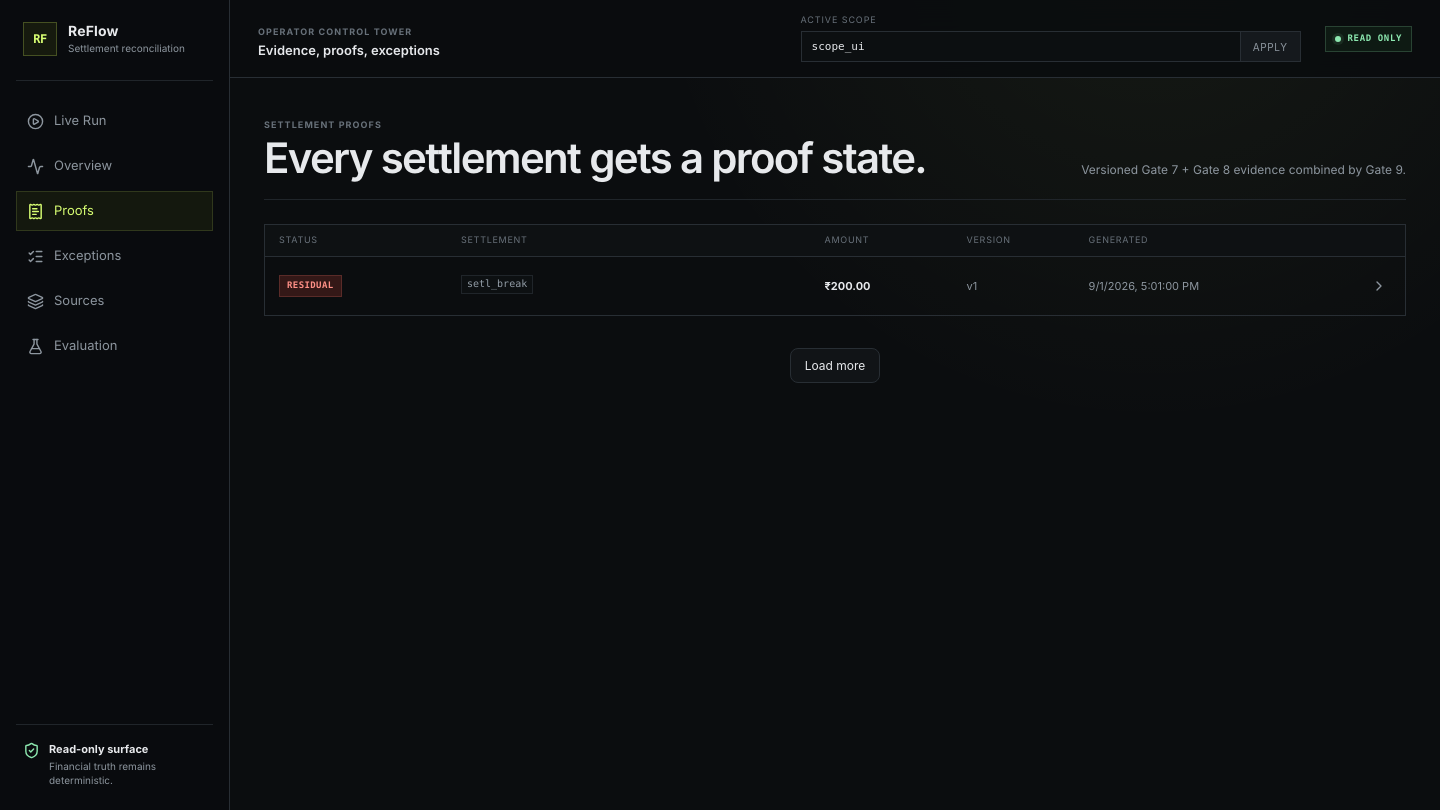
Scenario: ReFlow control tower › loads the next bounded proof page on demand
Check: the text "setl_break" is shown, box [461,275,533,294]
Click the button "Load more": (835, 366) [790,348,880,383]
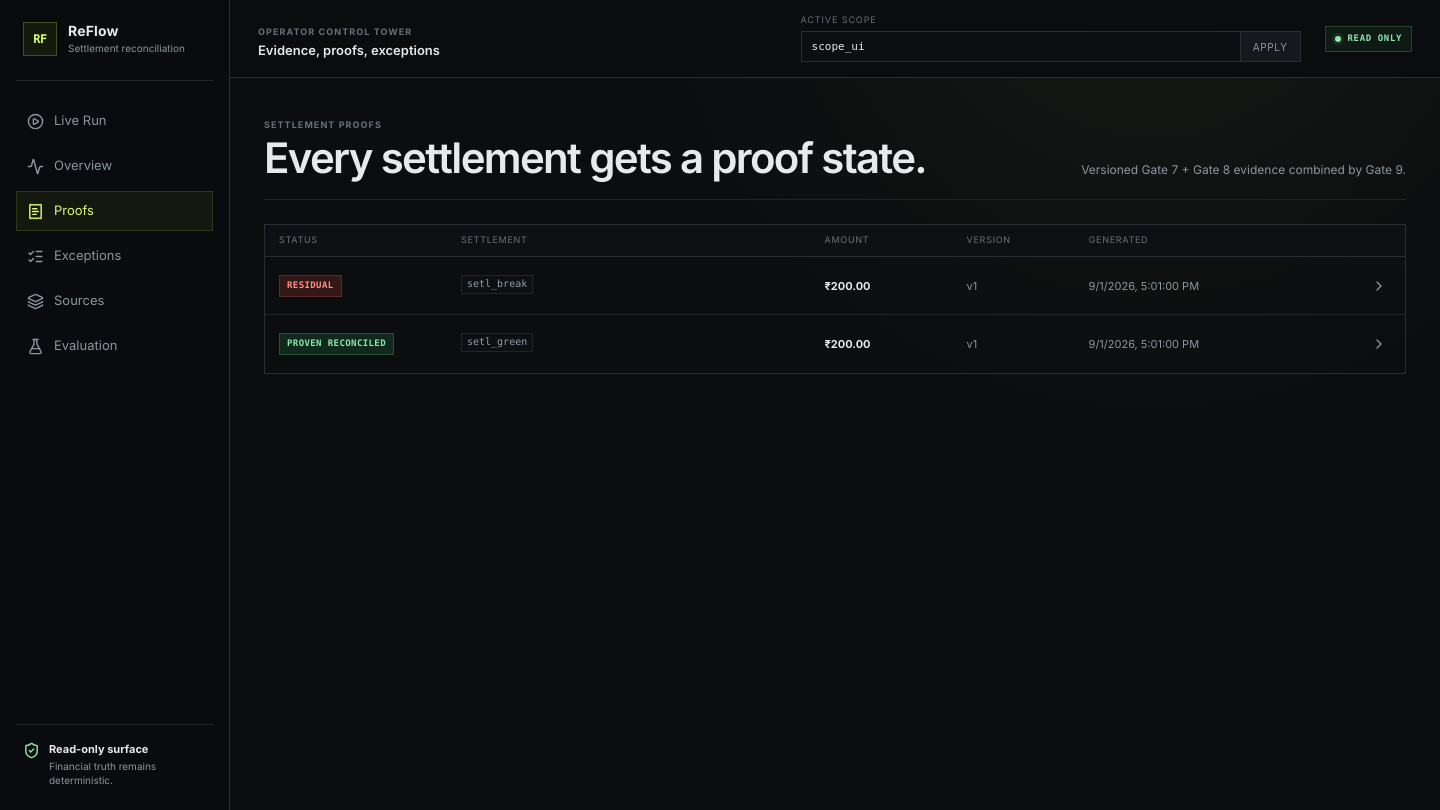
Check: the text "setl_green" is shown, box [461,333,533,352]
Check: the button "Load more" is gone
